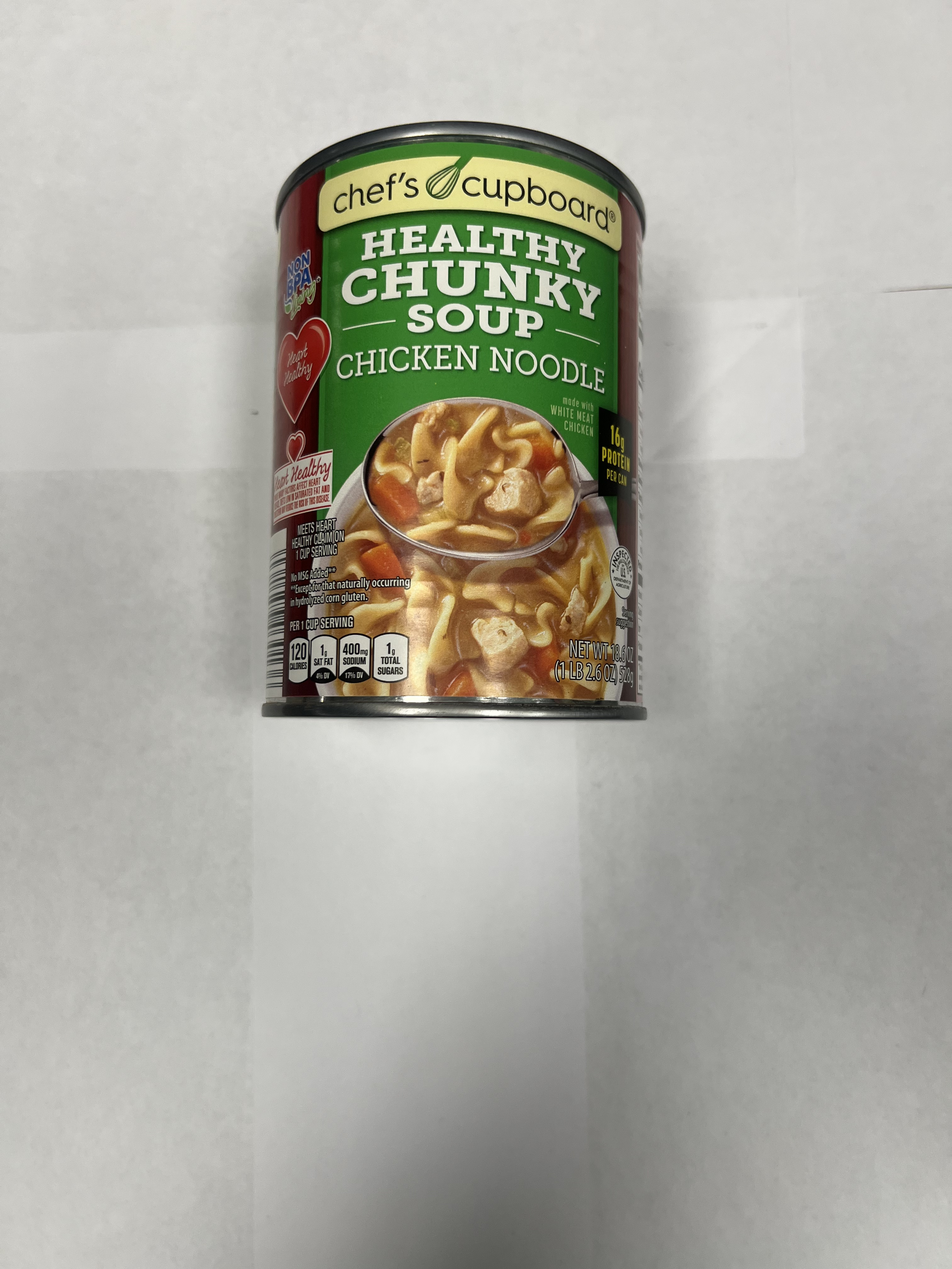packaged: (261, 116, 657, 730)
